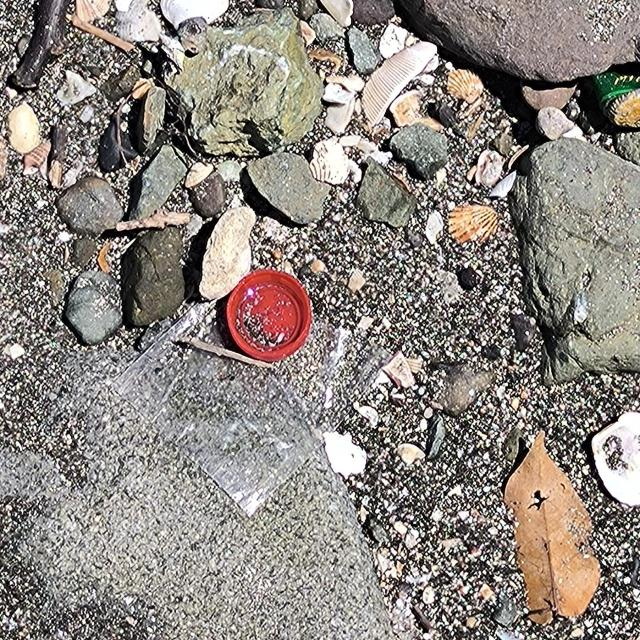litter: (226, 268, 315, 362)
